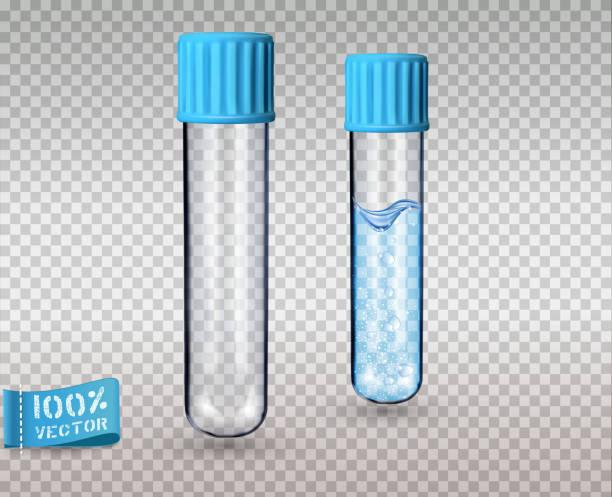Test tube: (180, 28, 278, 437), (342, 45, 430, 407)
